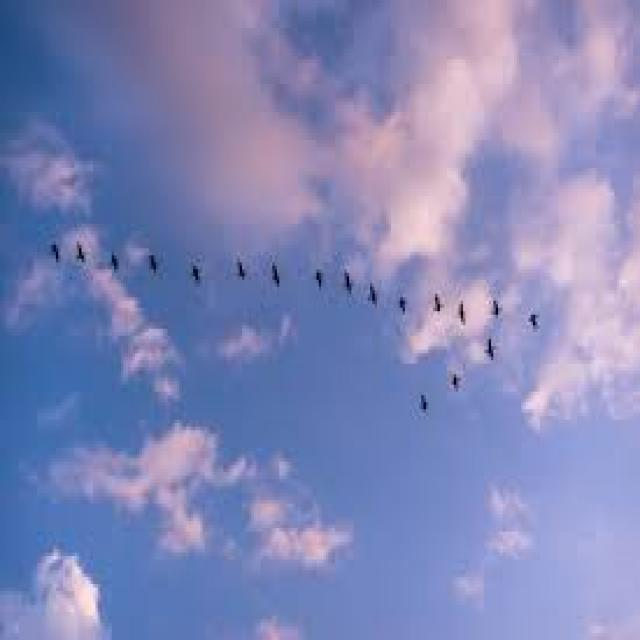bird: (478, 328, 509, 374), (518, 294, 542, 343), (393, 274, 412, 334), (483, 282, 506, 331), (364, 271, 382, 331), (454, 278, 472, 338), (230, 248, 249, 298), (426, 266, 444, 318), (71, 231, 90, 280), (104, 246, 125, 288), (312, 262, 331, 308), (339, 260, 357, 306), (184, 256, 202, 300), (270, 257, 286, 306), (145, 246, 162, 292), (417, 388, 438, 420), (48, 238, 64, 276), (447, 369, 468, 397)
